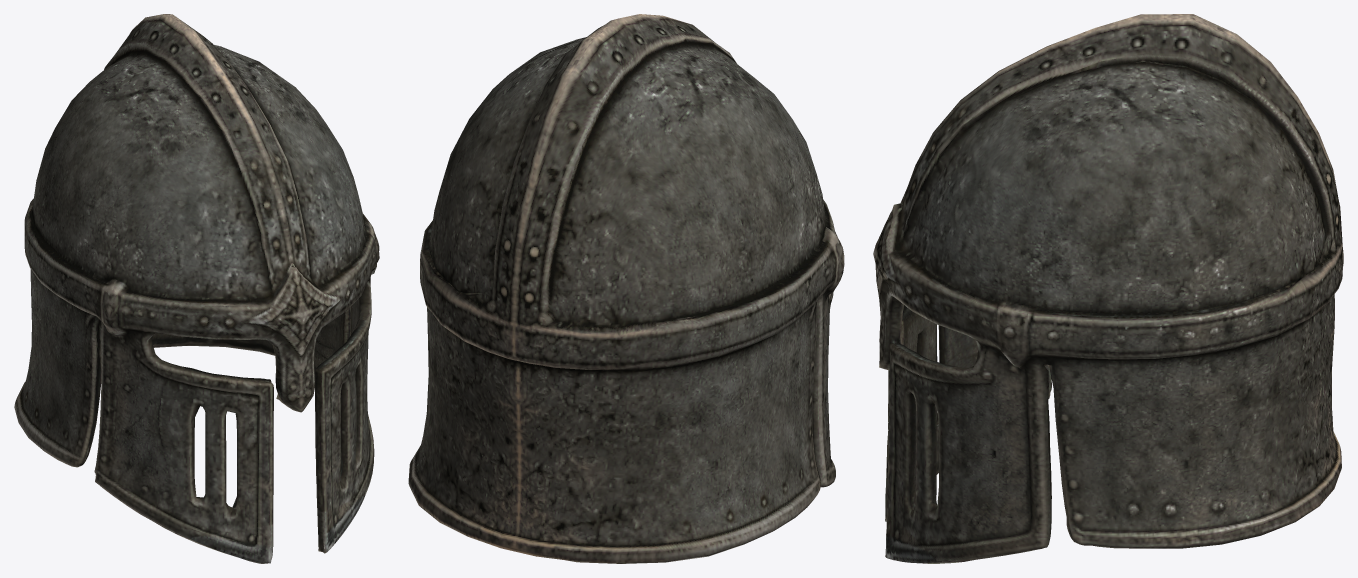
File: Meshy_AI_Ironbound_Helmet_0617221305_texture.glb
3 views of the same model, side by side, from view 1: azimuth 30°, elevation 25°; view 2: azimuth 150°, elevation 25°; view 3: azimuth 270°, elevation 25° (orthographic). The views are drawn at different scales.
Parts seen in each view (by area): view 1: Mesh_0; view 2: Mesh_0; view 3: Mesh_0.
Boxes of the visible parts, left/top/right/bottom form: Mesh_0: left=14, top=14, right=379, bottom=563; Mesh_0: left=408, top=14, right=844, bottom=563; Mesh_0: left=873, top=14, right=1343, bottom=563.
Bounding box in the file's own units: 1.3 × 1.89 × 1.53.
1 material, 1 textured.
